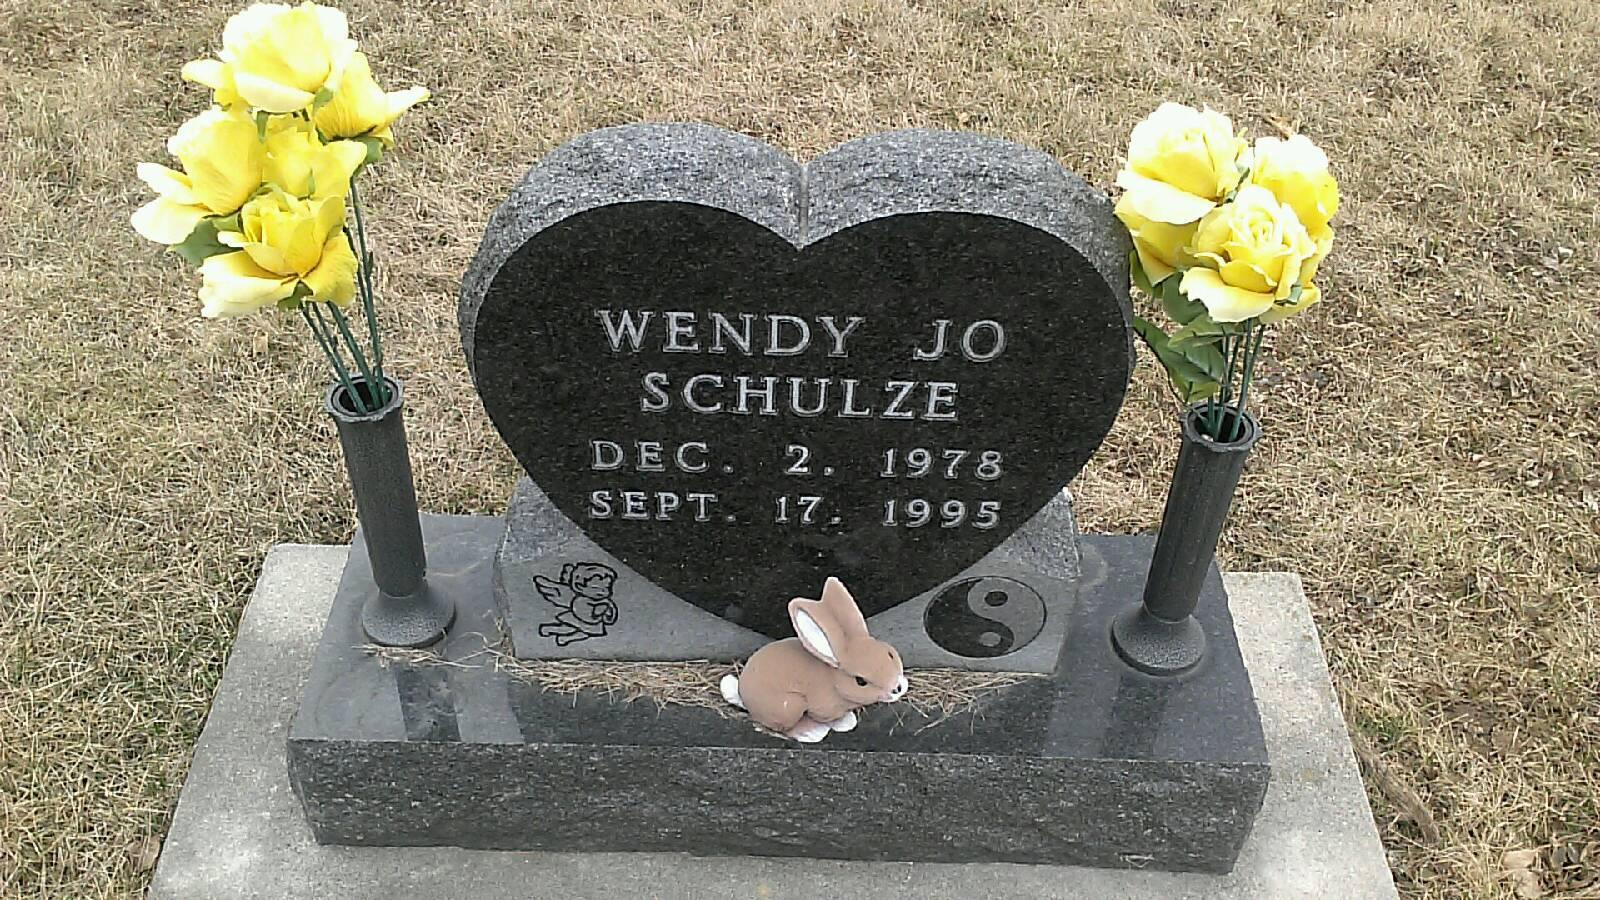upright: (137, 114, 1400, 900)
